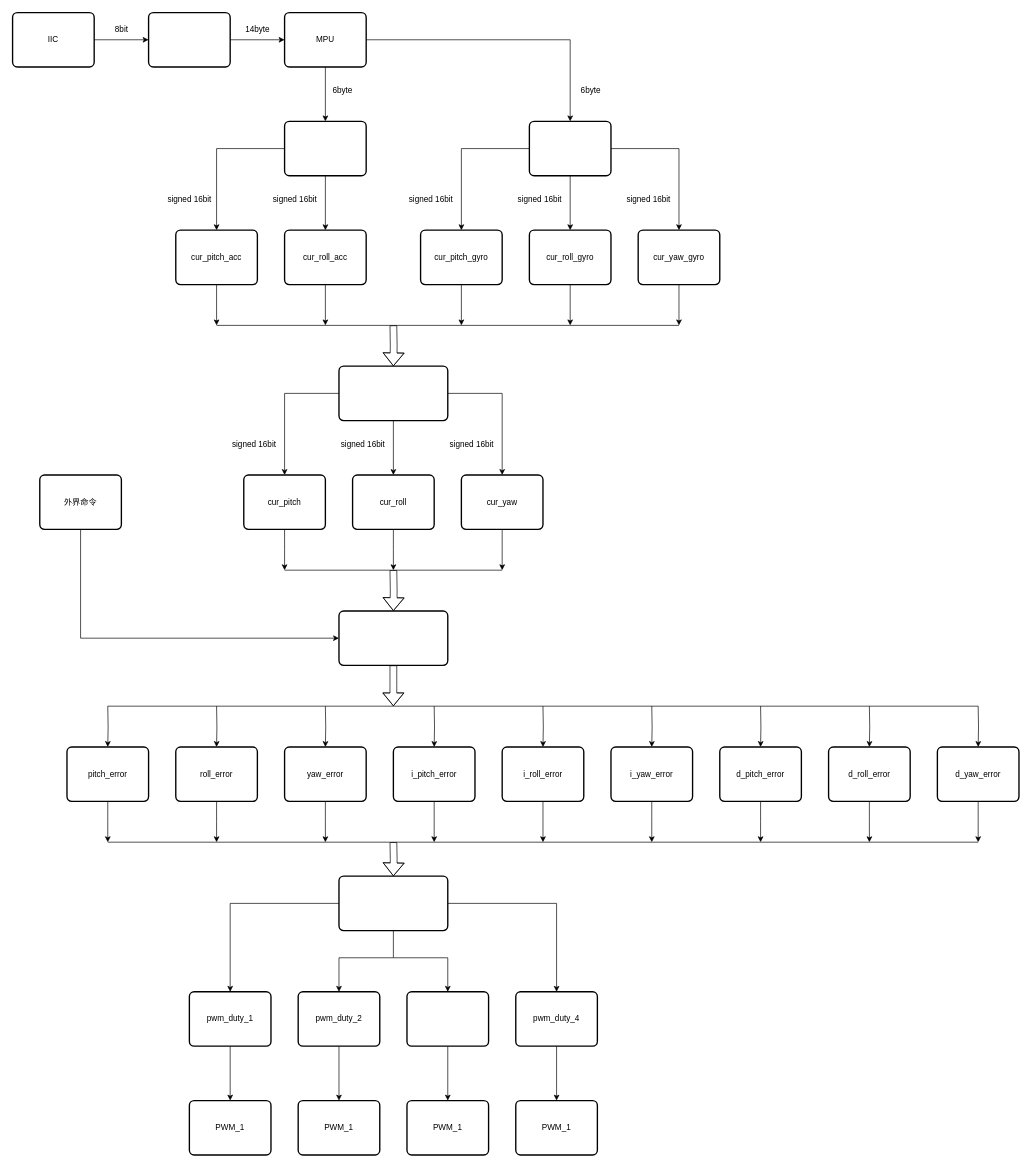
Image size: 1031x1167. Some labels were removed from this diagram. Here are the shapes that lost their labels. From the top down, the centre of each, then its label:
At pixel 189 39: "*14次".
At pixel 325 148: "加速度计算".
At pixel 569 148: "角速度计算".
At pixel 393 393: "filter".
At pixel 393 638: "cal_error".
At pixel 393 903: "PID".
At pixel 447 1019: "pwm_duty_3".
